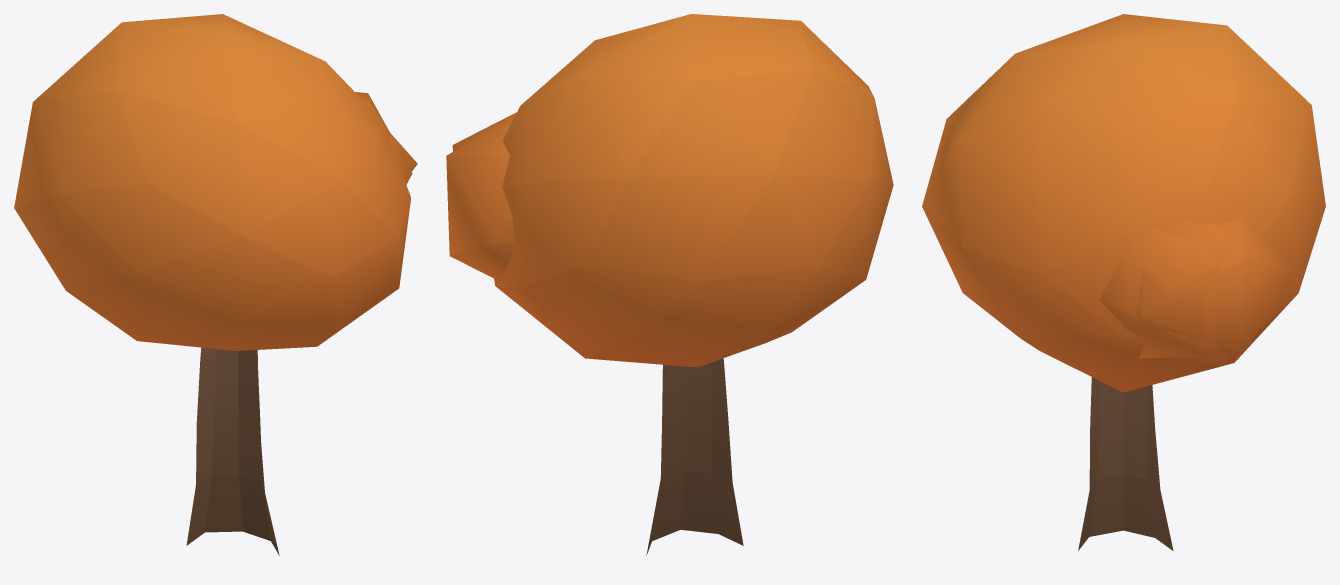
Rendered from autumn_tree_0.glb.
The picture shows the model from 3 angles, left to right: view 1: azimuth 30°, elevation 25°; view 2: azimuth 150°, elevation 25°; view 3: azimuth 270°, elevation 25°; orthographic projection. The views are drawn at different scales.
Visible parts, largest first — view 1: autumn_tree_0; view 2: autumn_tree_0; view 3: autumn_tree_0.
Part boxes in pixels (box(x1,y1,x2,y2)): autumn_tree_0: box(14, 14, 417, 555); autumn_tree_0: box(446, 14, 893, 555); autumn_tree_0: box(922, 14, 1325, 550).
Size of the model in its own units: 2.72 by 3.64 by 2.62.
